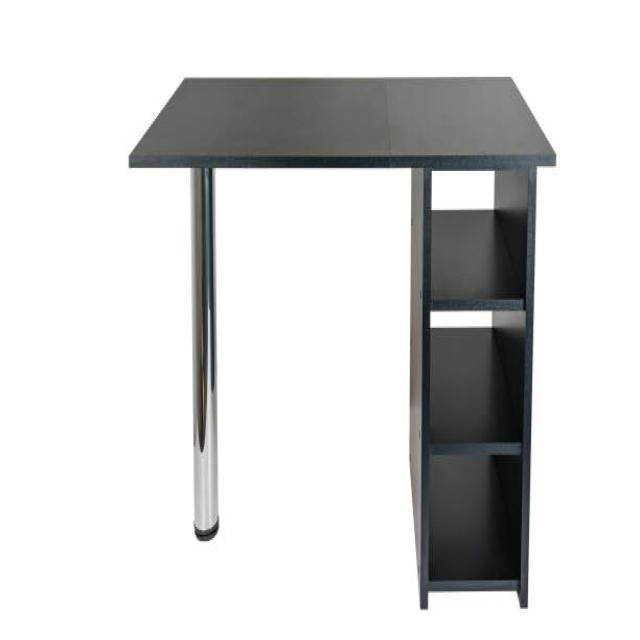table: (128, 74, 556, 608)
